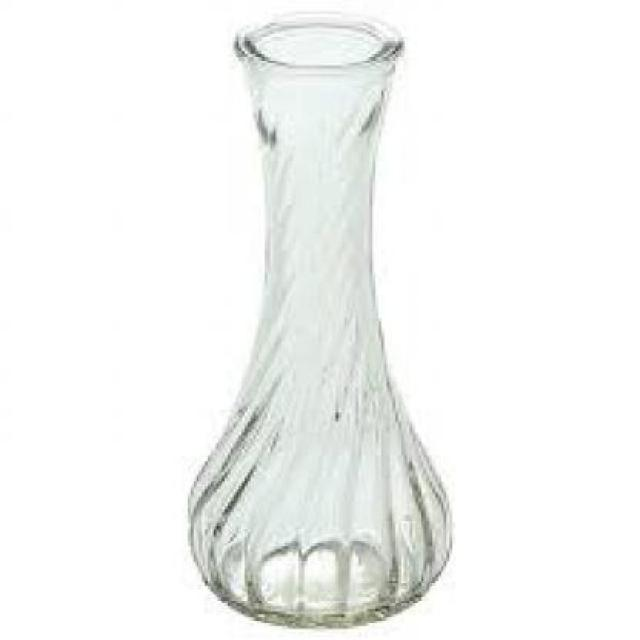kaca: (182, 9, 449, 629)
